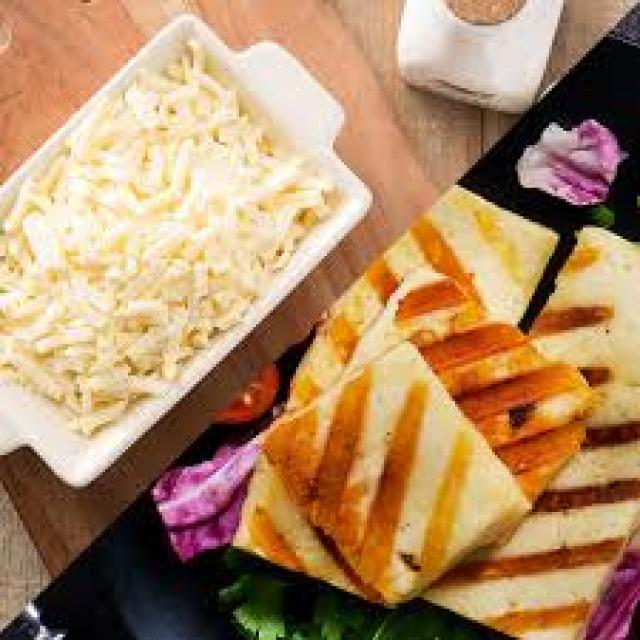Cheese: (34, 131, 250, 370)
